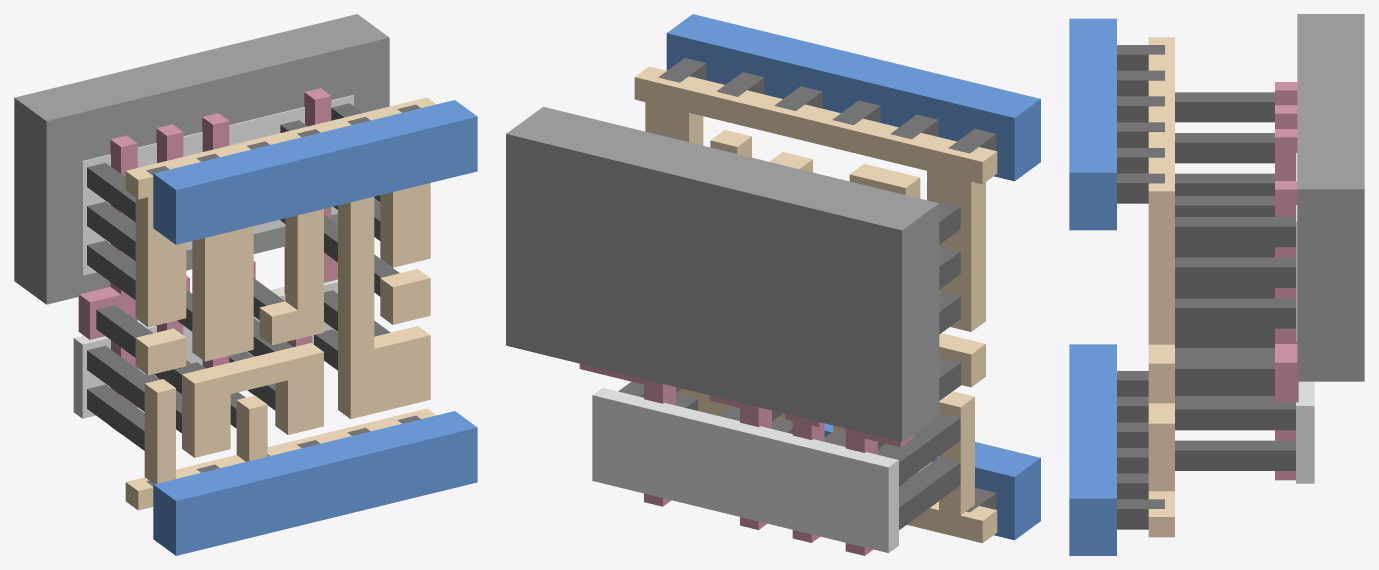
Rendered from sky130_fd_sc_hd__o31ai_1.gds.gltf.
3 renders of one model, left to right at view 1: azimuth 30°, elevation 25°; view 2: azimuth 150°, elevation 25°; view 3: azimuth 270°, elevation 25°, orthographic. The views are drawn at different scales.
Parts seen in each view (by area): view 1: sky130_fd_sc_hd__o31ai_1_li1, sky130_fd_sc_hd__o31ai_1_met1, sky130_fd_sc_hd__o31ai_1_nwell, sky130_fd_sc_hd__o31ai_1_licon, sky130_fd_sc_hd__o31ai_1_poly, sky130_fd_sc_hd__o31ai_1_diff, sky130_fd_sc_hd__o31ai_1_mcon; view 2: sky130_fd_sc_hd__o31ai_1_nwell, sky130_fd_sc_hd__o31ai_1_li1, sky130_fd_sc_hd__o31ai_1_diff, sky130_fd_sc_hd__o31ai_1_met1, sky130_fd_sc_hd__o31ai_1_licon, sky130_fd_sc_hd__o31ai_1_mcon, sky130_fd_sc_hd__o31ai_1_poly; view 3: sky130_fd_sc_hd__o31ai_1_licon, sky130_fd_sc_hd__o31ai_1_nwell, sky130_fd_sc_hd__o31ai_1_met1, sky130_fd_sc_hd__o31ai_1_li1, sky130_fd_sc_hd__o31ai_1_mcon, sky130_fd_sc_hd__o31ai_1_poly, sky130_fd_sc_hd__o31ai_1_diff.
Boxes of the visible parts, x1,y1,x2,y2 form: sky130_fd_sc_hd__o31ai_1_li1: [125, 97, 436, 510]; sky130_fd_sc_hd__o31ai_1_met1: [153, 100, 477, 555]; sky130_fd_sc_hd__o31ai_1_nwell: [14, 14, 389, 304]; sky130_fd_sc_hd__o31ai_1_licon: [87, 103, 399, 450]; sky130_fd_sc_hd__o31ai_1_poly: [78, 88, 337, 433]; sky130_fd_sc_hd__o31ai_1_diff: [73, 95, 353, 418]; sky130_fd_sc_hd__o31ai_1_mcon: [146, 104, 420, 486]; sky130_fd_sc_hd__o31ai_1_nwell: [506, 106, 939, 441]; sky130_fd_sc_hd__o31ai_1_li1: [634, 66, 997, 543]; sky130_fd_sc_hd__o31ai_1_diff: [592, 387, 898, 553]; sky130_fd_sc_hd__o31ai_1_met1: [666, 14, 1040, 540]; sky130_fd_sc_hd__o31ai_1_licon: [618, 132, 961, 529]; sky130_fd_sc_hd__o31ai_1_mcon: [658, 58, 996, 512]; sky130_fd_sc_hd__o31ai_1_poly: [579, 364, 913, 555]; sky130_fd_sc_hd__o31ai_1_licon: [1175, 92, 1295, 470]; sky130_fd_sc_hd__o31ai_1_nwell: [1297, 14, 1364, 381]; sky130_fd_sc_hd__o31ai_1_met1: [1069, 18, 1116, 555]; sky130_fd_sc_hd__o31ai_1_li1: [1148, 37, 1174, 537]; sky130_fd_sc_hd__o31ai_1_mcon: [1117, 45, 1164, 529]; sky130_fd_sc_hd__o31ai_1_poly: [1275, 82, 1298, 480]; sky130_fd_sc_hd__o31ai_1_diff: [1296, 153, 1314, 483].
Bounding box in the file's own units: 3.14 × 3.2 × 2.24.
